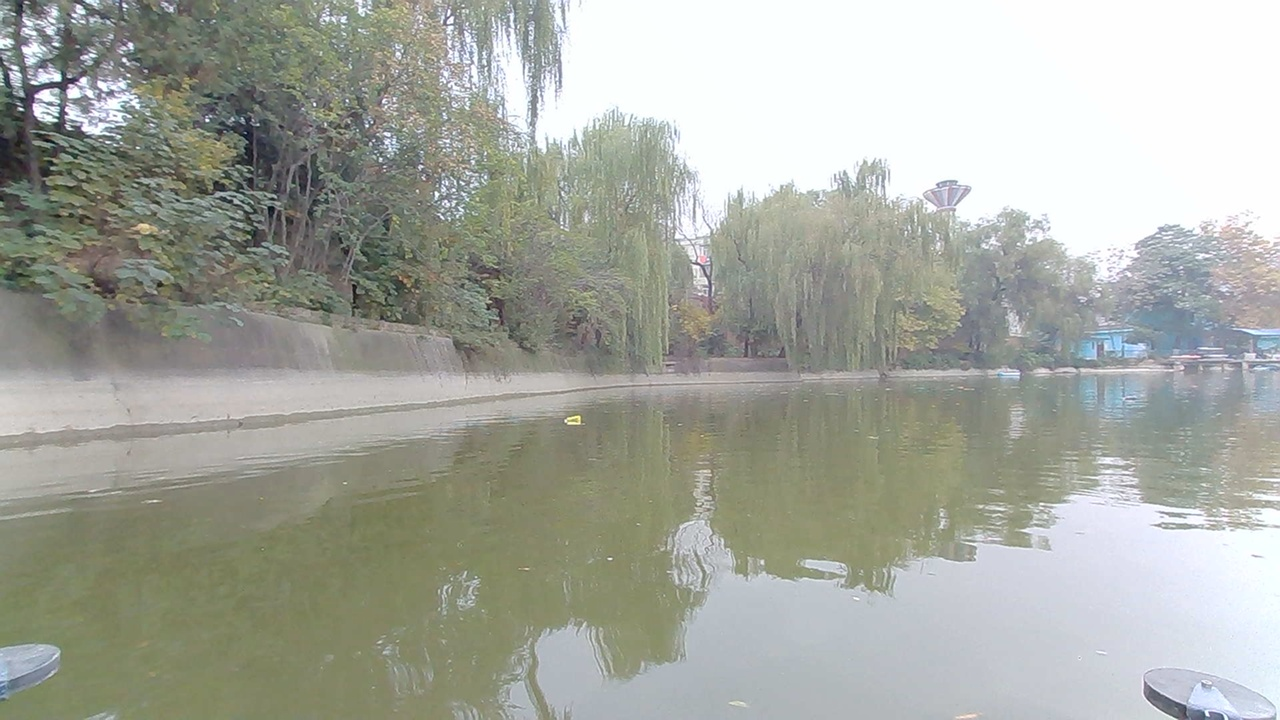bottle: (561, 408, 595, 431), (1118, 389, 1147, 409)
